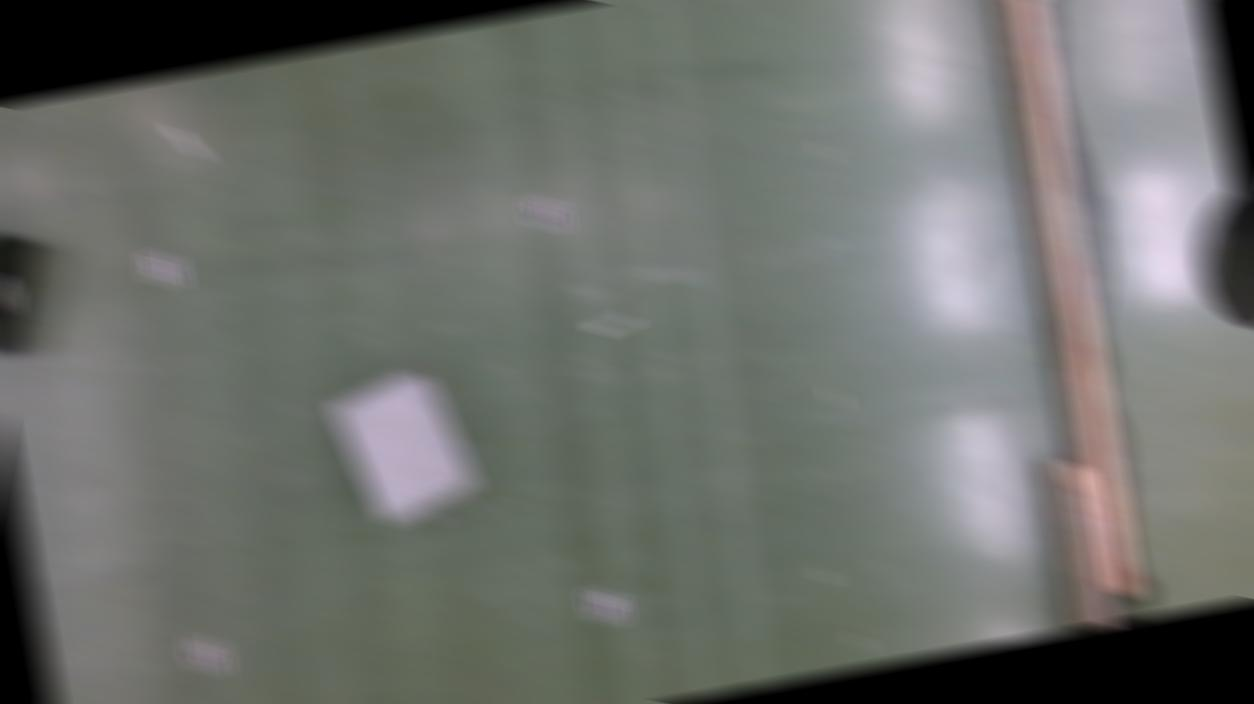probes: (167, 118, 208, 165), (588, 309, 640, 336)
rako: (324, 360, 482, 530), (0, 214, 56, 353)
